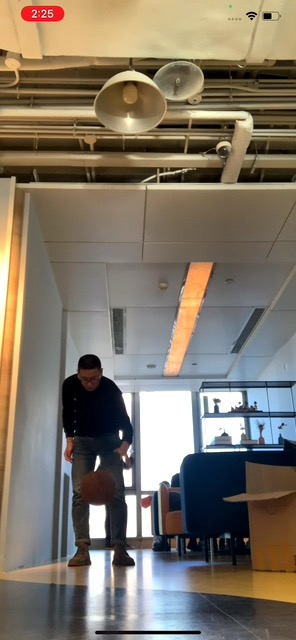ball: (80, 470, 117, 507)
